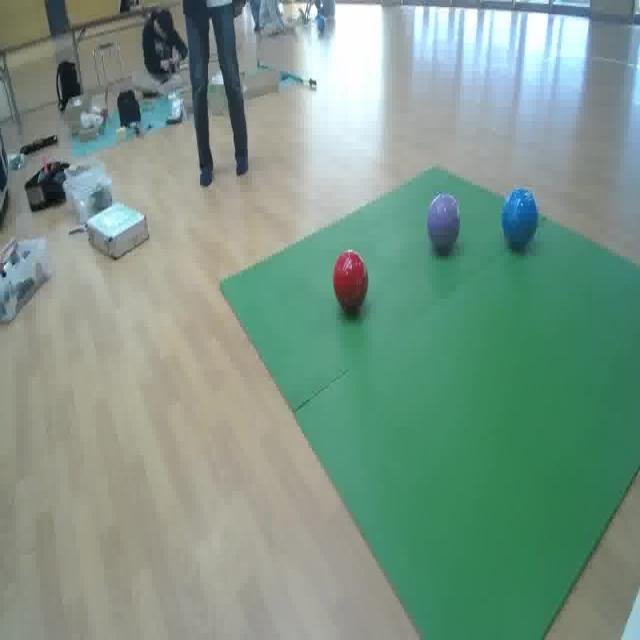blue_ball: (502, 187, 538, 250)
purple_ball: (428, 193, 461, 251)
red_ball: (333, 251, 369, 312)
